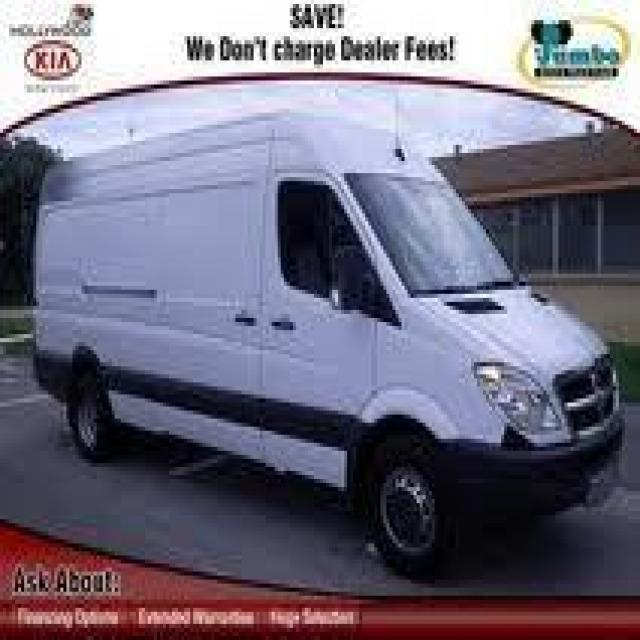Travller: (12, 52, 625, 572)
